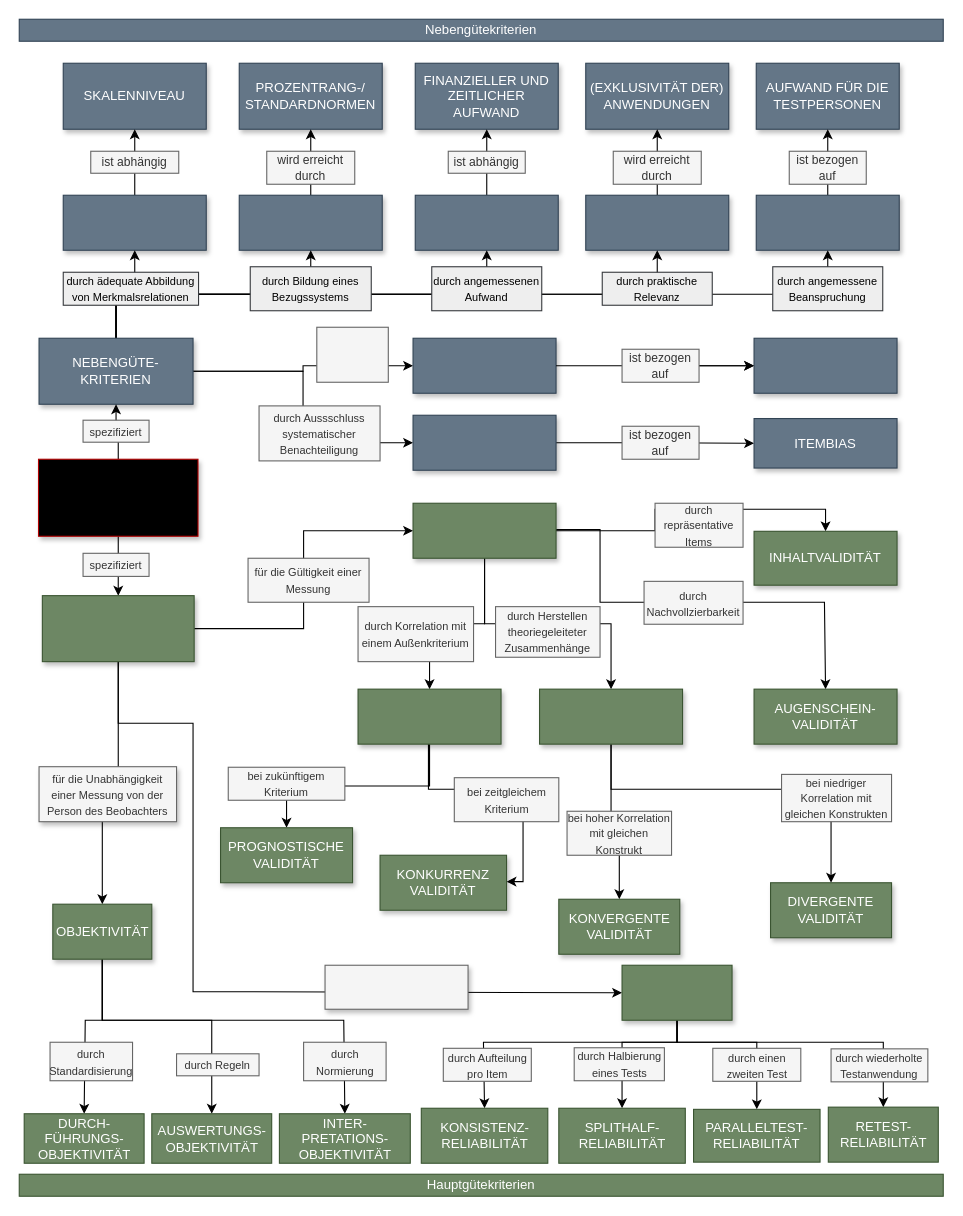
Image size: 963x1216. Some labels were removed from this diagram. Here are the shapes that lost their labels. From the top down, the centre of each, then its label:
At point 135,224: "SKALIERUNG".
At point 311,224: "NORMIERUNG/ EICHUNG".
At point 487,224: "TESTÖKONOMIE".
At point 657,224: "NÜTZLICHKEIT/ UTILITÄT".
At point 828,224: "ZUMUTBARKEIT".
At point 352,354: "durch unterbundene Verzerrung".
At point 485,367: "UNVERFÄSCHLICH-BARKEIT".
At point 826,367: "SOZIALE ERWÜNSCHHEIT".
At point 485,444: "TESTFAIRNESS".
At point 119,499: "QUALITÄTS- ANFORDERUNGEN AN PSYCHOLOGISCHE TESTS".
At point 485,532: "VALIDITÄT".
At point 119,629: "HAUPTGÜTE-KRITERIEN".
At point 430,718: "KRITERIUMS-VALIDITÄT".
At point 611,718: "KONSTRUKT-VALIDIÄT".
At point 397,988: "für die Zuverlässigkeit einer Messung".
At point 678,994: "RELIABILITÄT".
